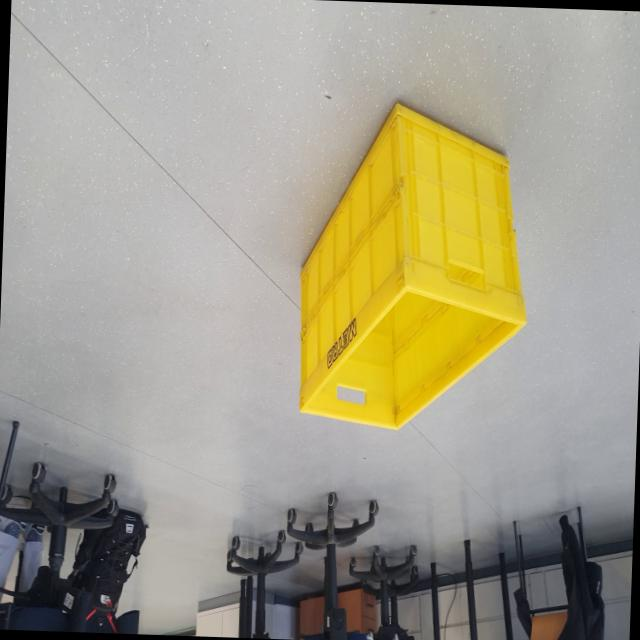box: (290, 87, 542, 451)
